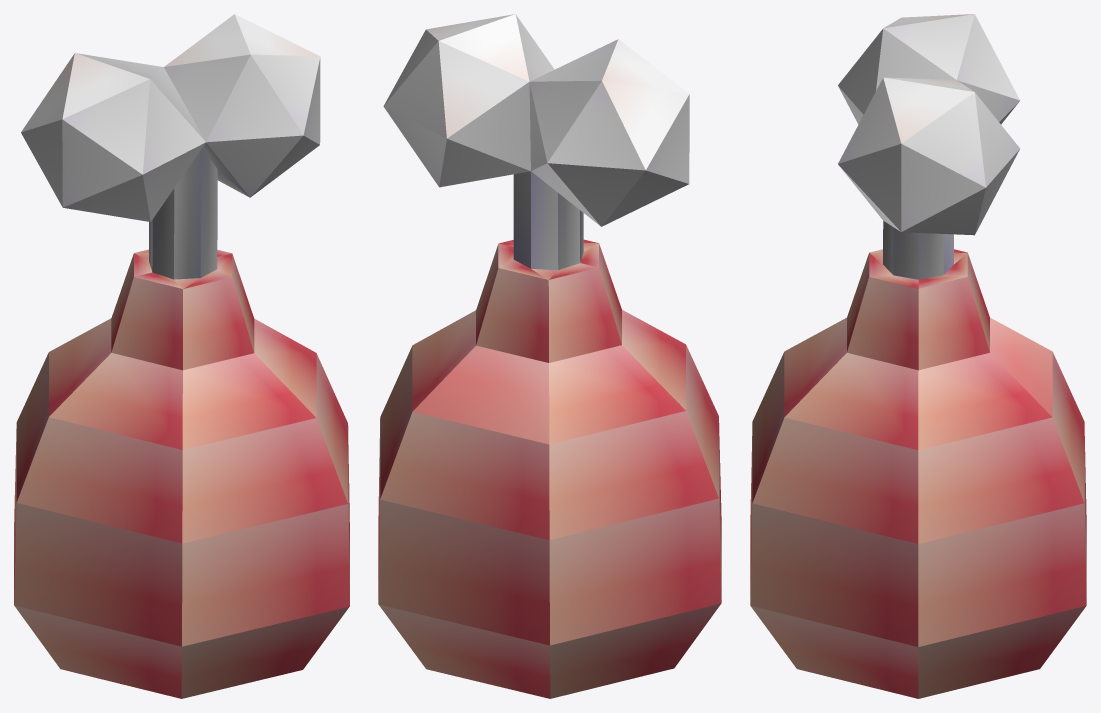
Rendered from chicken.fbx.
The picture shows the model from 3 angles, left to right: view 1: azimuth 30°, elevation 25°; view 2: azimuth 150°, elevation 25°; view 3: azimuth 270°, elevation 25°; orthographic projection. The views are drawn at different scales.
Visible parts, largest first — view 1: chicken; view 2: chicken; view 3: chicken.
Boxes of the visible parts, x1,y1,x2,y2 form: chicken: (14,14,349,698); chicken: (378,14,721,698); chicken: (750,14,1086,698).
Bounding box in the file's own units: 68.86 × 122 × 59.64.
